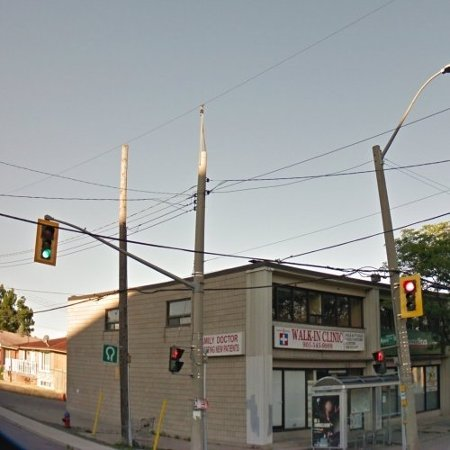紅綠燈: (110, 104, 200, 255)
